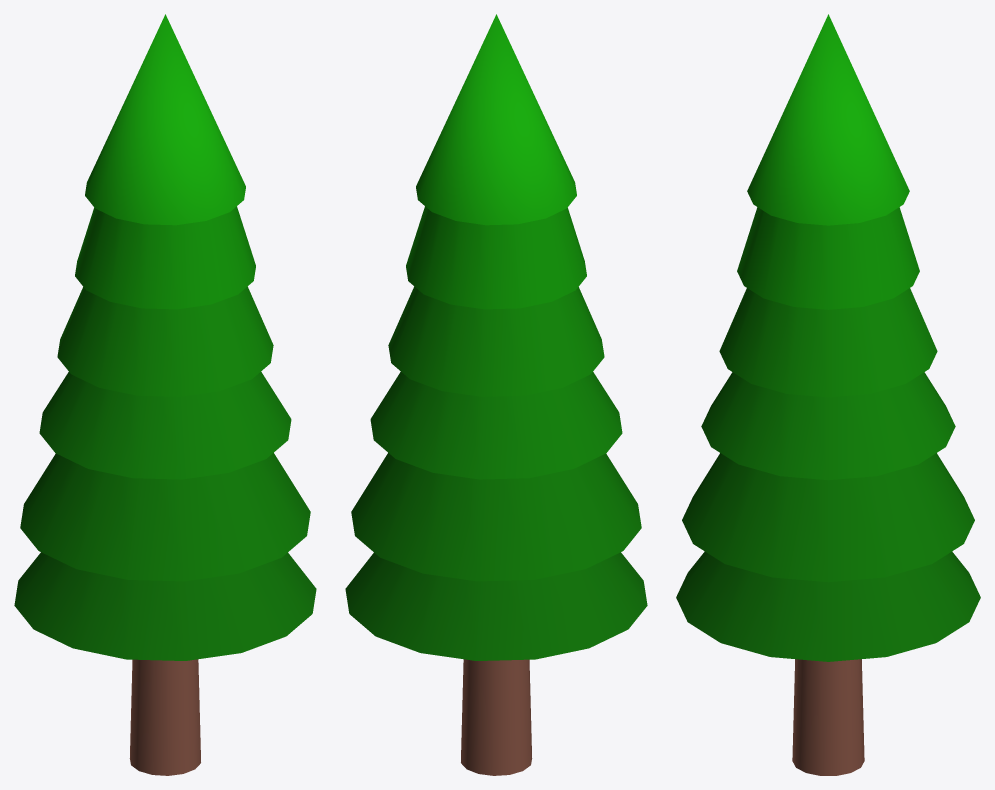
File: Spruce_Cold_Green_Thin_1.fbx
3 renders of one model, left to right at view 1: azimuth 30°, elevation 25°; view 2: azimuth 150°, elevation 25°; view 3: azimuth 270°, elevation 25°, orthographic.
Visible parts, largest first — view 1: Cylinder.949, Cylinder.948, Cylinder.951, Cylinder.950, Cylinder.953, Cylinder.952, Cylinder.947; view 2: Cylinder.949, Cylinder.948, Cylinder.951, Cylinder.950, Cylinder.953, Cylinder.952, Cylinder.947; view 3: Cylinder.949, Cylinder.948, Cylinder.951, Cylinder.950, Cylinder.953, Cylinder.952, Cylinder.947.
Part boxes in pixels (x1=…): Cylinder.949: x1=20, y1=453, x2=310, y2=581; Cylinder.948: x1=14, y1=552, x2=316, y2=660; Cylinder.951: x1=39, y1=371, x2=291, y2=479; Cylinder.950: x1=85, y1=14, x2=245, y2=225; Cylinder.953: x1=57, y1=286, x2=273, y2=396; Cylinder.952: x1=75, y1=206, x2=255, y2=309; Cylinder.947: x1=129, y1=659, x2=200, y2=775; Cylinder.949: x1=351, y1=453, x2=641, y2=581; Cylinder.948: x1=345, y1=552, x2=647, y2=660; Cylinder.951: x1=370, y1=371, x2=622, y2=479; Cylinder.950: x1=416, y1=14, x2=576, y2=225; Cylinder.953: x1=388, y1=286, x2=604, y2=396; Cylinder.952: x1=406, y1=206, x2=586, y2=309; Cylinder.947: x1=461, y1=659, x2=532, y2=775; Cylinder.949: x1=682, y1=453, x2=974, y2=582; Cylinder.948: x1=676, y1=551, x2=980, y2=661; Cylinder.951: x1=701, y1=372, x2=955, y2=480; Cylinder.950: x1=747, y1=14, x2=909, y2=225; Cylinder.953: x1=719, y1=288, x2=937, y2=397; Cylinder.952: x1=737, y1=207, x2=919, y2=309; Cylinder.947: x1=792, y1=659, x2=864, y2=775.
Bounding box in the file's own units: 195 × 529 × 195.
